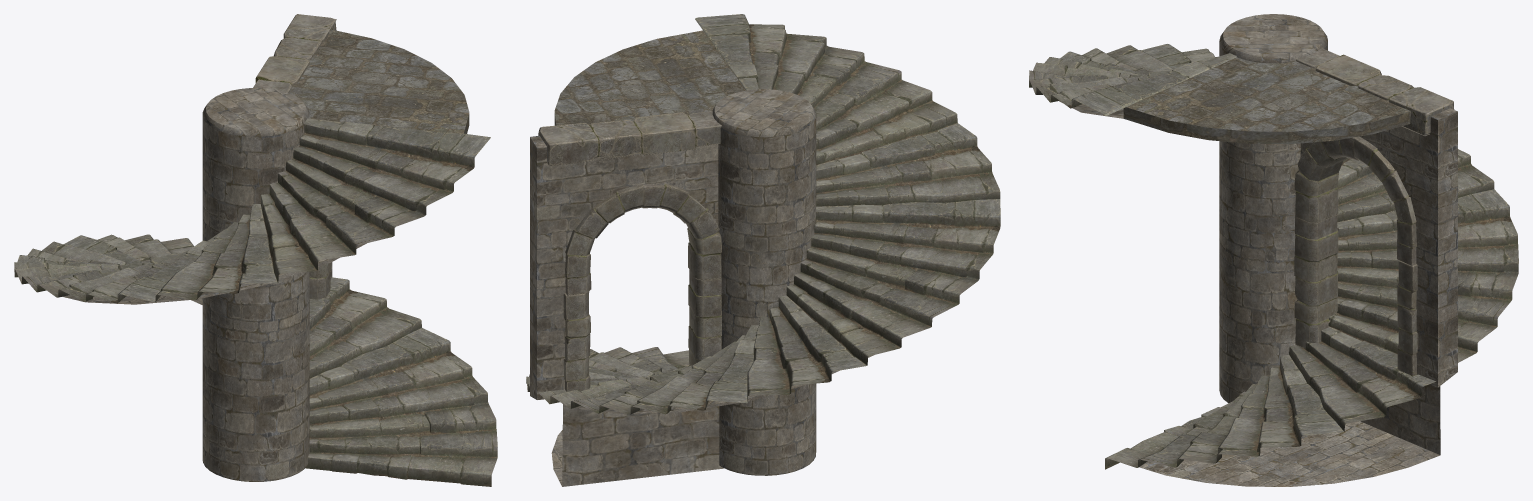
File: SM_Round_Tower_Stair_01.fbx
The picture shows the model from 3 angles, left to right: view 1: azimuth 30°, elevation 25°; view 2: azimuth 150°, elevation 25°; view 3: azimuth 270°, elevation 25°; orthographic projection. The views are drawn at different scales.
Visible parts, largest first — view 1: SM_Round_Tower_Stair_01_LOD0; view 2: SM_Round_Tower_Stair_01_LOD0; view 3: SM_Round_Tower_Stair_01_LOD0.
Part boxes in pixels (left/top/right/bottom): SM_Round_Tower_Stair_01_LOD0: left=14, top=14, right=497, bottom=486; SM_Round_Tower_Stair_01_LOD0: left=526, top=14, right=1000, bottom=486; SM_Round_Tower_Stair_01_LOD0: left=1029, top=14, right=1518, bottom=486.
Size of what is drawn, in the model's own units: 762 by 615 by 761.
5 materials, 5 textured.
